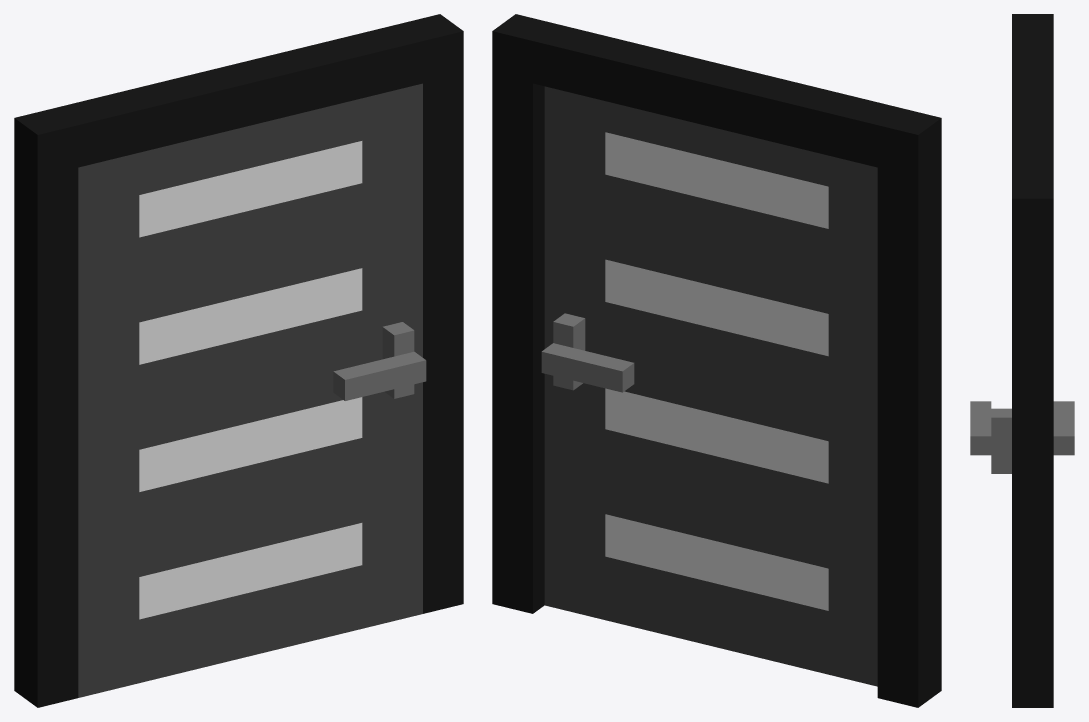
File: Porte(1)(frame1).obj
3 views of the same model, side by side, from view 1: azimuth 30°, elevation 25°; view 2: azimuth 150°, elevation 25°; view 3: azimuth 270°, elevation 25° (orthographic). The views are drawn at different scales.
Bounding box in the file's own units: 2.1 × 2.7 × 0.5.
1 material, 1 textured.
